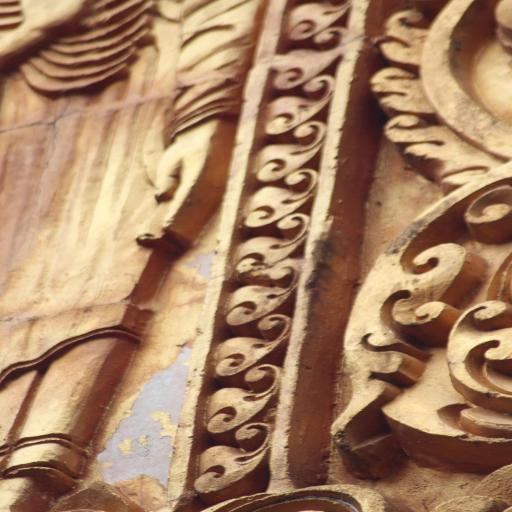la: (356, 187, 512, 461), (372, 8, 512, 189)
lua: (205, 384, 272, 434), (207, 441, 269, 491), (214, 332, 280, 378), (239, 234, 298, 282), (229, 287, 295, 328), (286, 2, 346, 47), (248, 185, 305, 232), (277, 51, 341, 89), (256, 140, 312, 180), (272, 93, 322, 134)
